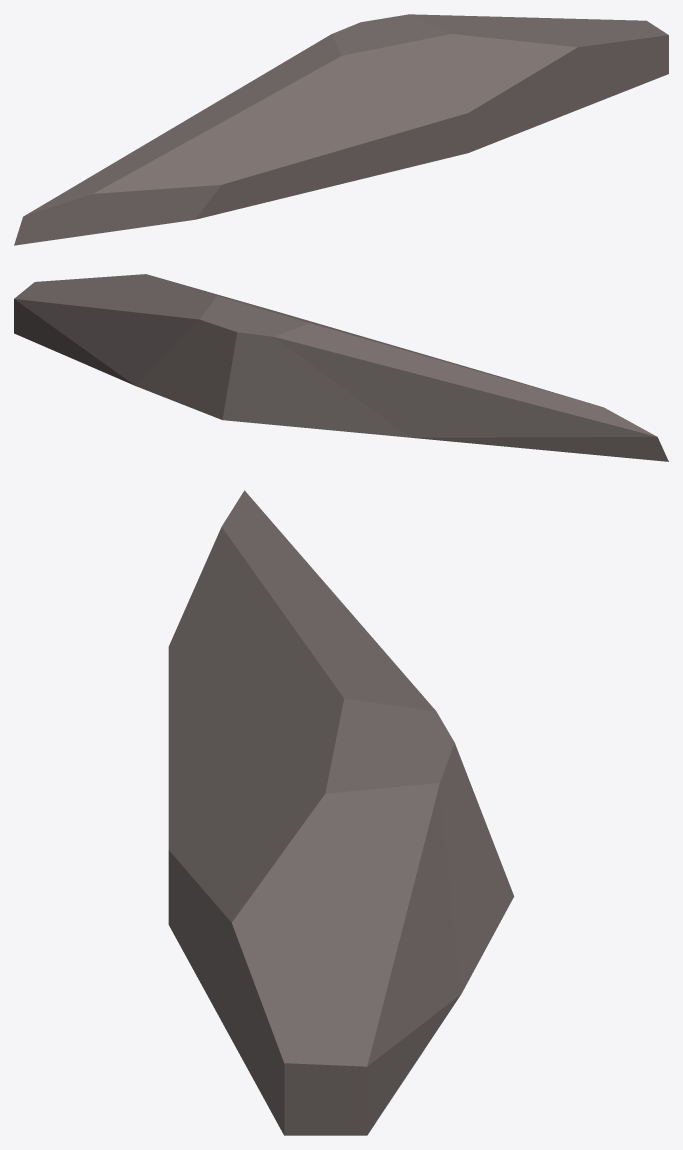
The model's file is Rock_Sharp_m_19.fbx.
3 renders of one model, top to bottom at view 1: azimuth 30°, elevation 25°; view 2: azimuth 150°, elevation 25°; view 3: azimuth 270°, elevation 25°, orthographic. The views are drawn at different scales.
Visible parts, largest first — view 1: Rock_Sharp_m_19; view 2: Rock_Sharp_m_19; view 3: Rock_Sharp_m_19.
Part boxes in pixels (box(x1,y1,x2,y2)): Rock_Sharp_m_19: box(14, 14, 668, 245); Rock_Sharp_m_19: box(14, 274, 668, 461); Rock_Sharp_m_19: box(168, 490, 514, 1135).
Bounding box in the file's own units: 198 × 23.32 × 47.47.
